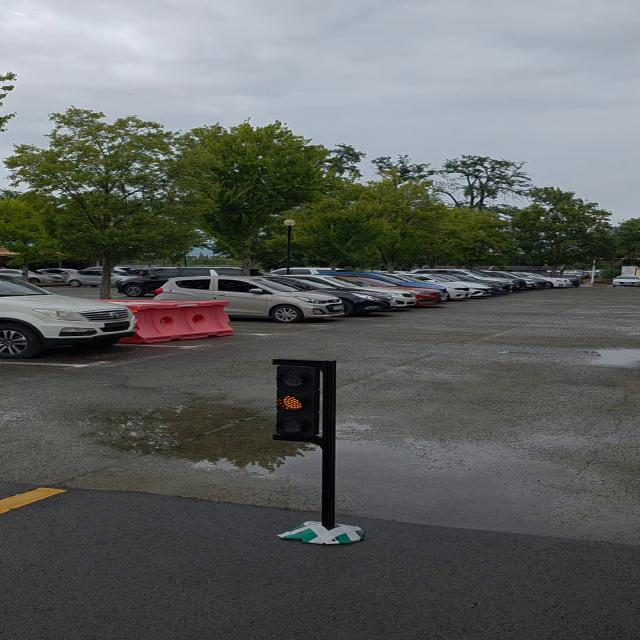yellow: (271, 360, 336, 442)
